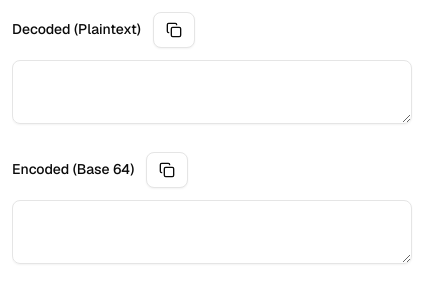
Test case: Base64 Tool › decodes padding characters correctly
Type "YQ==" into the text box labelled "Encoded (Base 64)" at coordinates (212, 232), box [12,200,412,264]
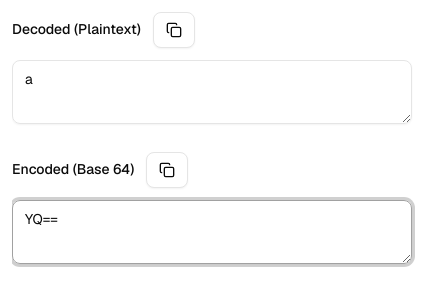
Now the text box labelled "Decoded (Plaintext)" holds "a", box [12,60,412,124]
